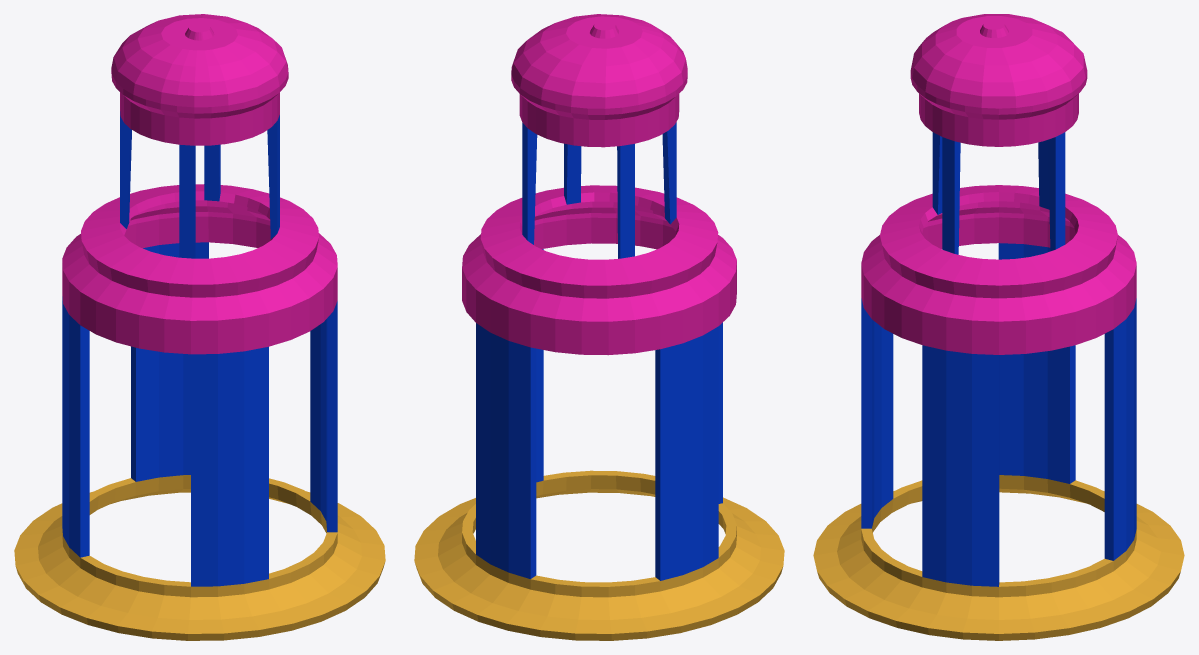
The model's file is building.fbx.
3 views of the same model, side by side, from view 1: azimuth 30°, elevation 25°; view 2: azimuth 150°, elevation 25°; view 3: azimuth 270°, elevation 25° (orthographic).
Visible parts, largest first — view 1: Circle; view 2: Circle; view 3: Circle.
Boxes of the visible parts, box(x1,y1,x2,y2) form: Circle: box(14, 14, 385, 640); Circle: box(414, 14, 784, 640); Circle: box(813, 14, 1184, 640).
Size of the model in its own units: 1032 by 1648 by 1032.
